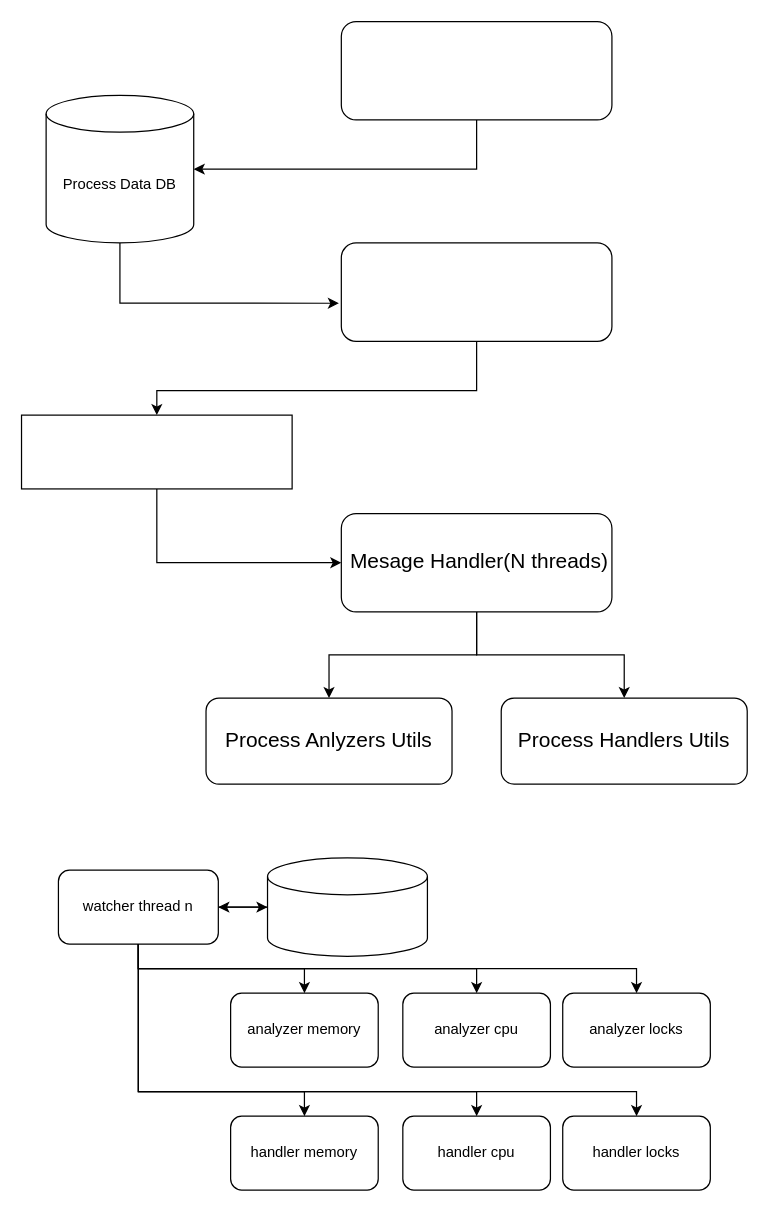
Some shapes in this 769 by 1212 pixel diagram are drawn without their labels. Each missing label, with the centre of its shape:
process changes: the point at 346,906
Scanner: the point at 476,70
Suspicious Detector: the point at 476,291
Suspicious Queue (FIFO): the point at 156,451
